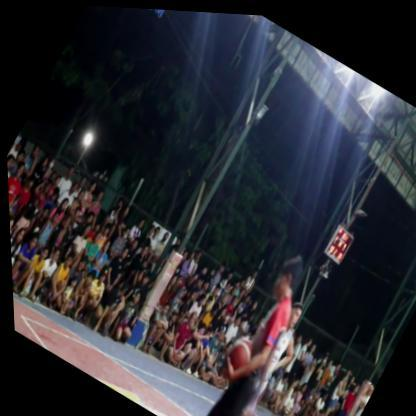basketball: (207, 330, 255, 386)
rim: (131, 6, 197, 24)
